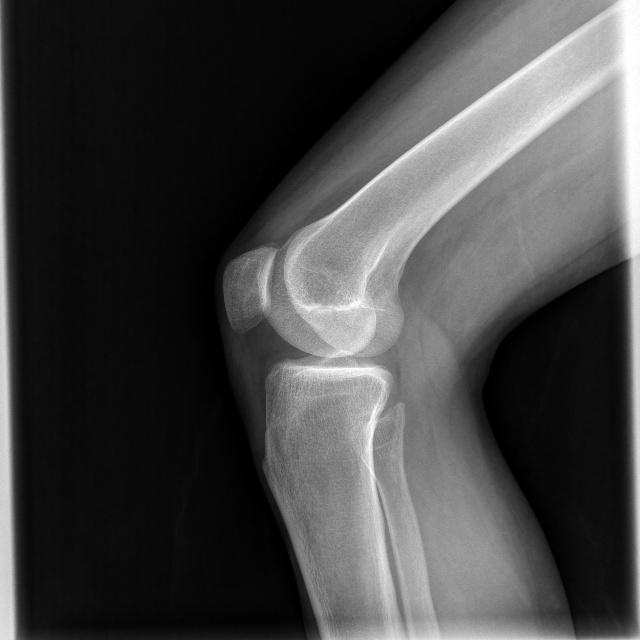Knee: (219, 240, 406, 425)
